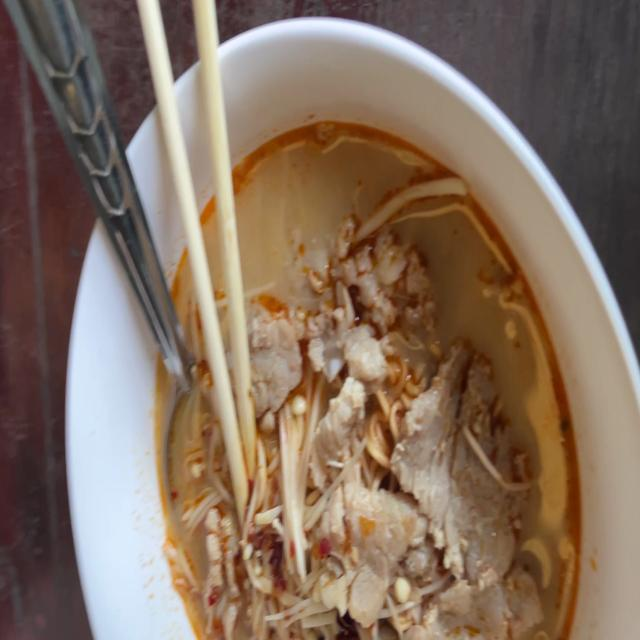noodle: (147, 112, 581, 640)
